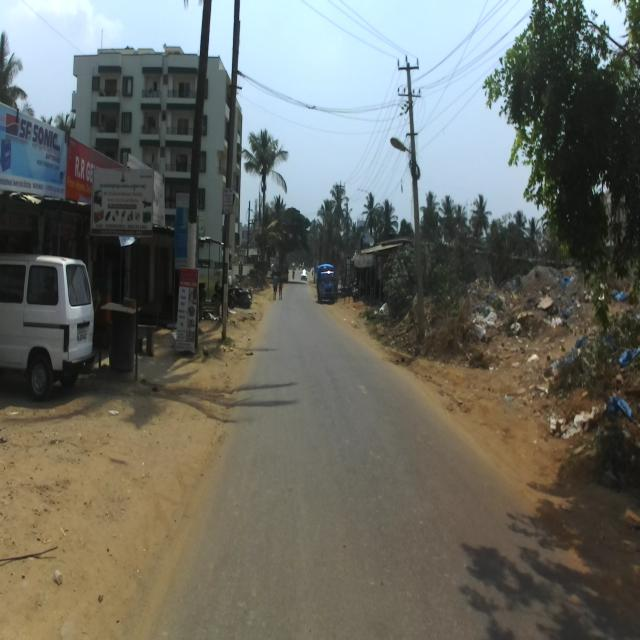car ahead at: (1, 257, 94, 402)
electric pole ahead at: (392, 52, 428, 348), (218, 0, 247, 332)
